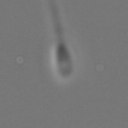normal: (40, 1, 71, 40)
